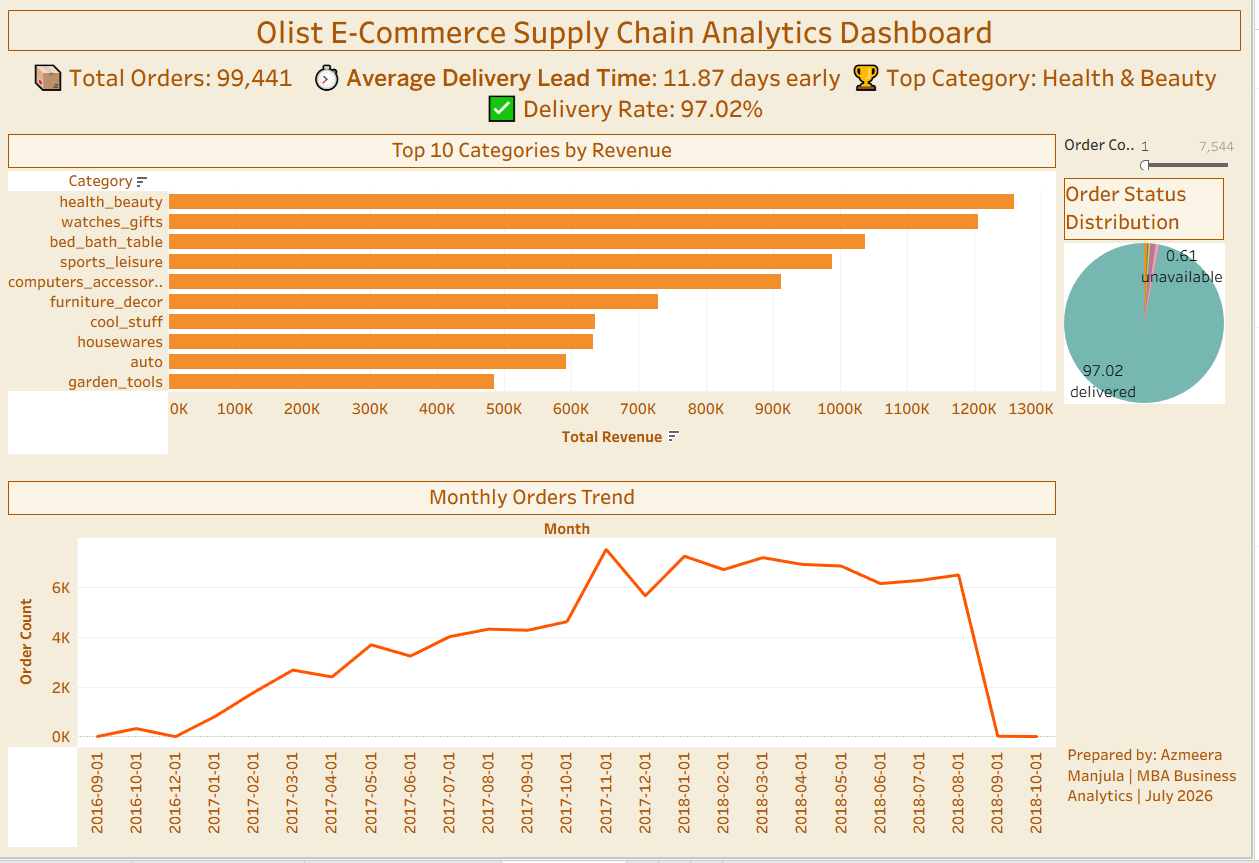

The dashboard page shown, as its layout file describes it:
{"tool":"tableau","page":{"name":"Dashboard 2","canvas":[1000,800],"ordinal":0},"visuals":[{"type":"title","box":[8,8,984,49]},{"type":"text","box":[8,57,984,75]},{"type":"worksheet","title":"Top 10 Categories by Revenue","mark":"Automatic","rows":["category"],"cols":["total_revenue"],"box":[8,132,808,330]},{"type":"filter","title":"Monthly Orders Trend","param":"[federated.0c82po51yrok8q1bt7spq0ceinxv].[sum:order_count:qk]","box":[816,132,176,44]},{"type":"worksheet","title":"Order Status Distribution","mark":"Pie","box":[816,176,176,530]},{"type":"worksheet","title":"Monthly Orders Trend","mark":"Line","rows":["order_count"],"cols":["month"],"box":[8,462,808,330]},{"type":"text","box":[816,706,176,86]}]}

Visuals, with their boxes on the page's 1000x800 design canvas (x1, y1, x2, y2). These are canvas units, not pixel positions in the 1259x863 screenshot, which may show the page scaled, cropped or inside an application window:
title: rect(8, 8, 992, 57)
text: rect(8, 57, 992, 132)
"Top 10 Categories by Revenue" worksheet: rect(8, 132, 816, 462)
"Monthly Orders Trend" filter: rect(816, 132, 992, 176)
"Order Status Distribution" worksheet (Pie marks): rect(816, 176, 992, 706)
"Monthly Orders Trend" worksheet (Line marks): rect(8, 462, 816, 792)
text: rect(816, 706, 992, 792)
